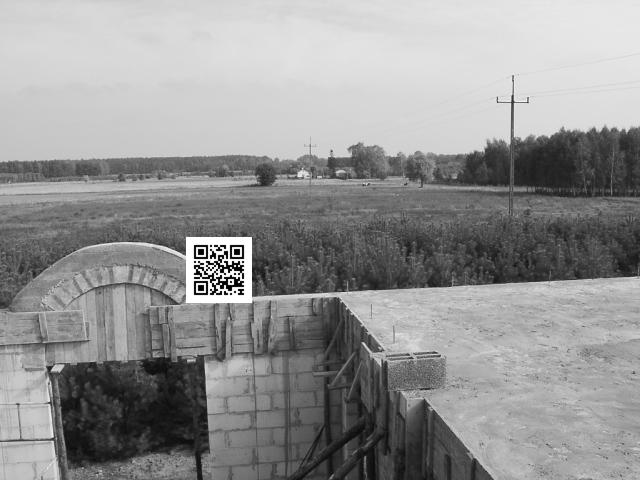qr_code: (185, 237, 252, 302)
